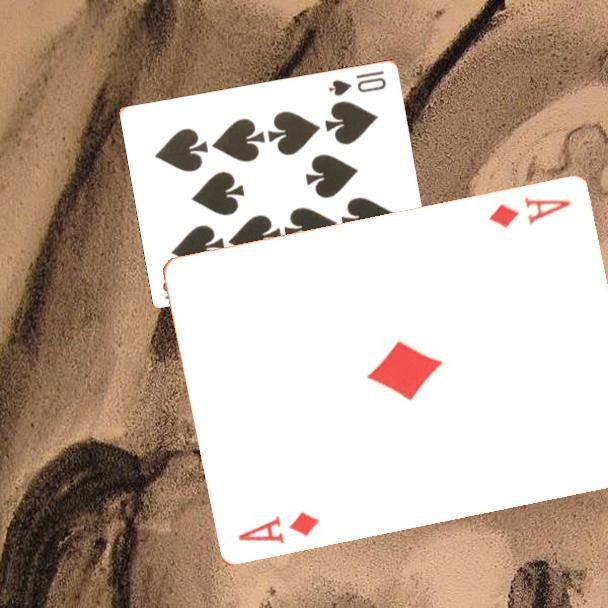d01: (234, 508, 323, 547), (485, 194, 574, 232)
s10: (325, 67, 389, 99)
